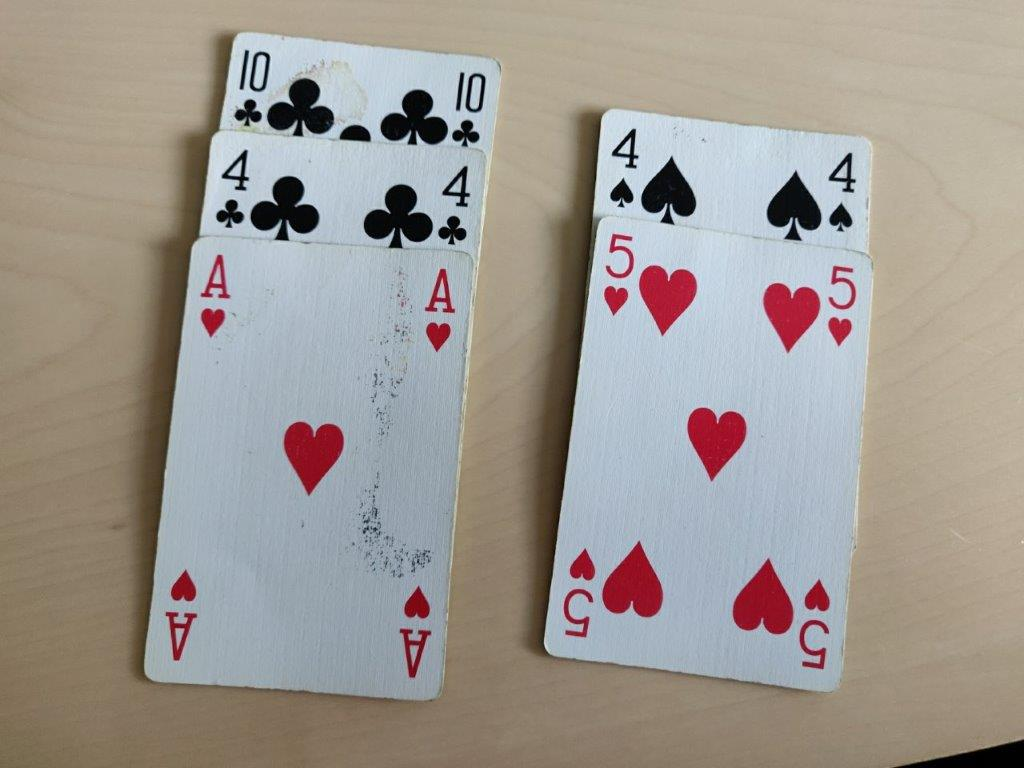10C: (231, 45, 273, 131), (447, 66, 489, 152)
4C: (214, 145, 254, 230), (434, 162, 474, 247)
4S: (609, 122, 642, 210), (826, 148, 859, 236)
5H: (600, 230, 640, 318), (822, 261, 862, 349)
AH: (196, 252, 235, 345), (422, 265, 461, 358)
